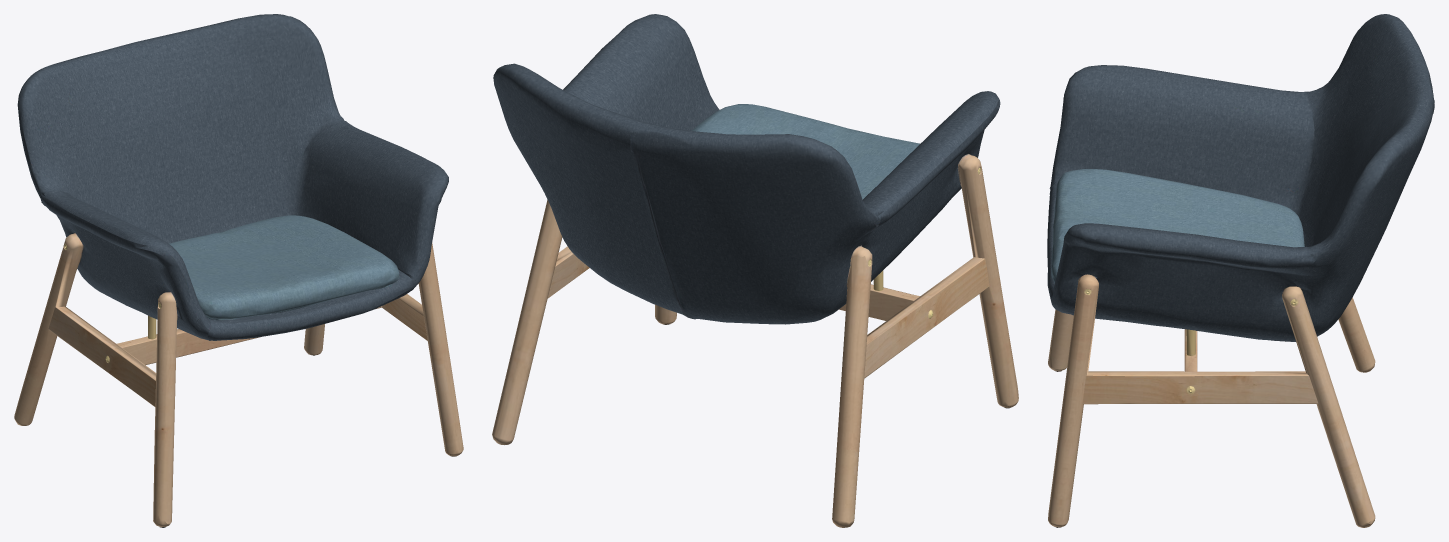
File: VEDBO armchair - Gunnared blue.glb
3 views of the same model, side by side, from view 1: azimuth 30°, elevation 25°; view 2: azimuth 150°, elevation 25°; view 3: azimuth 270°, elevation 25° (orthographic). The views are drawn at different scales.
Visible parts, largest first — view 1: ProcessedMeshNode; view 2: ProcessedMeshNode; view 3: ProcessedMeshNode.
Boxes of the visible parts, x1,y1,x2,y2 form: ProcessedMeshNode: [14, 14, 463, 527]; ProcessedMeshNode: [492, 14, 1018, 527]; ProcessedMeshNode: [1047, 14, 1434, 527].
Size of the model in its own units: 0.7249 by 0.7388 by 0.7004.
Materials: 2 (2 with a texture image).
